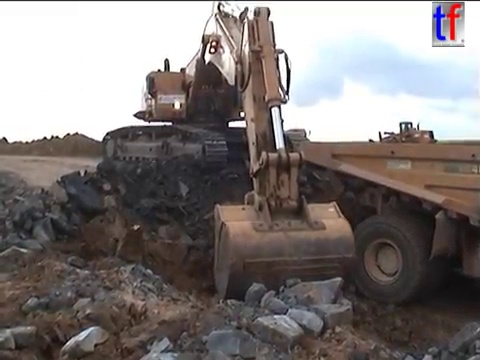excavator: (97, 1, 362, 316)
truck: (292, 138, 480, 309)
wheel loader: (364, 119, 440, 154)
